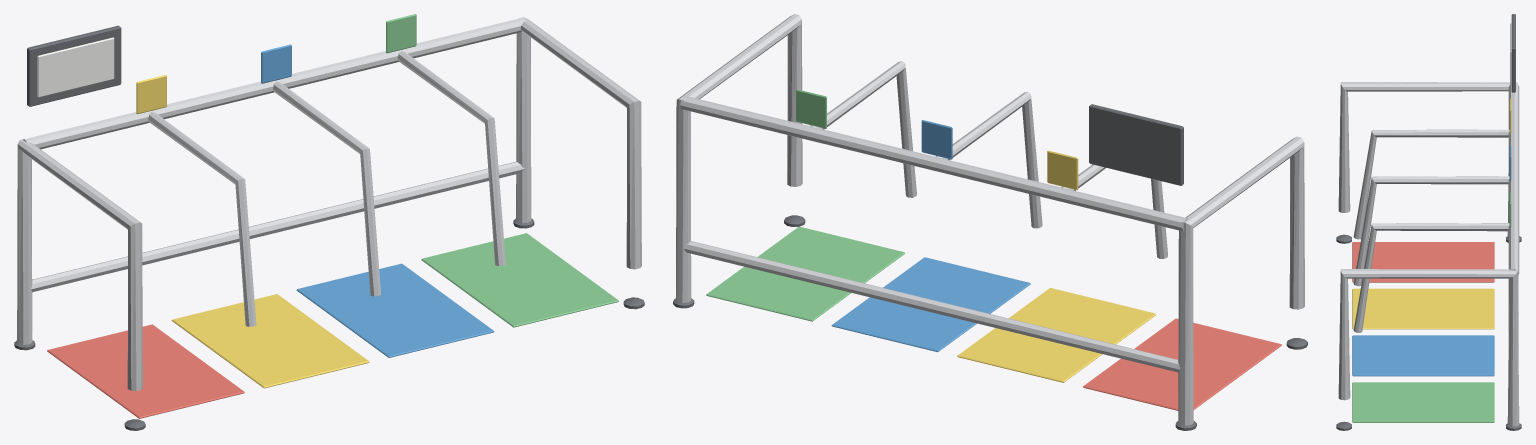
The model's file is nursery-and-primary-classroom-buggy-park-frame-193346f1__35016.glb.
3 renders of one model, left to right at view 1: azimuth 30°, elevation 25°; view 2: azimuth 150°, elevation 25°; view 3: azimuth 270°, elevation 25°, orthographic. The views are drawn at different scales.
Parts seen in each view (by area): view 1: buggy-park-frame; view 2: buggy-park-frame; view 3: buggy-park-frame.
Boxes of the visible parts, bbox=[...] form: buggy-park-frame: bbox=[14, 14, 644, 430]; buggy-park-frame: bbox=[673, 14, 1307, 430]; buggy-park-frame: bbox=[1336, 14, 1521, 430].
Size of the model in its own units: 1.68 by 0.9201 by 0.677.
